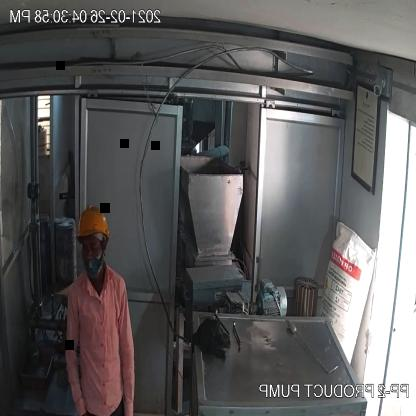helmet: (72, 201, 113, 248)
